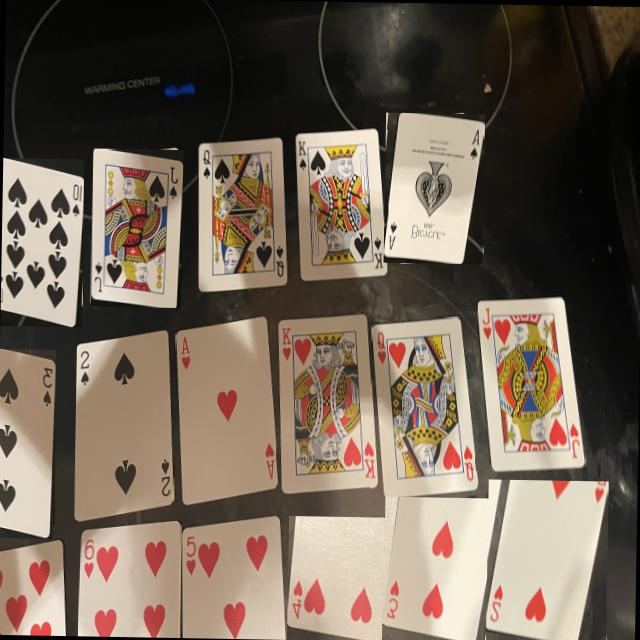10 of spades: (0, 156, 83, 326)
2 of hearts: (486, 478, 607, 640)
2 of spades: (75, 329, 174, 519)
3 of hearts: (384, 495, 500, 640)
3 of spades: (0, 348, 55, 537)
4 of hearts: (288, 515, 397, 640)
5 of hearts: (181, 514, 285, 639)
6 of hearts: (78, 519, 180, 637)
Ace of hearts: (176, 316, 278, 503)
Ace of spades: (384, 111, 483, 262)
Jack of hearts: (477, 296, 585, 470)
Jack of spades: (90, 148, 183, 306)
King of hearts: (278, 313, 377, 491)
King of spades: (296, 128, 387, 280)
Queen of hearts: (372, 316, 477, 496)
Queen of spades: (198, 136, 287, 290)
